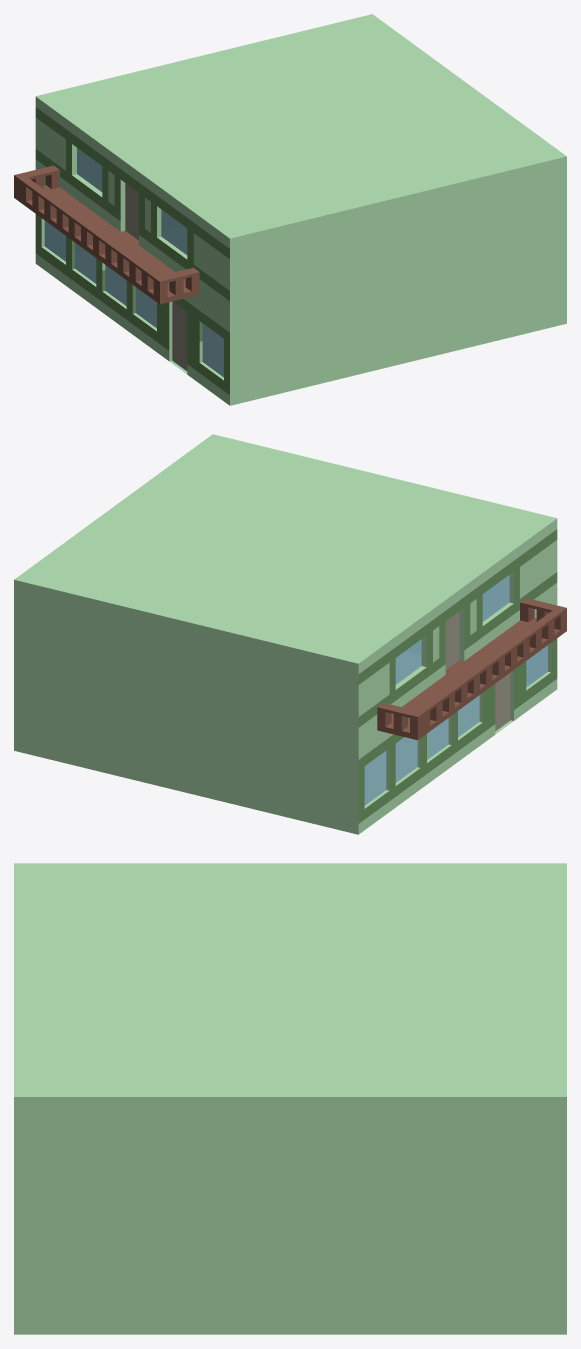
File: casa_2piso1.glb
The picture shows the model from 3 angles, top to bottom: view 1: azimuth 30°, elevation 25°; view 2: azimuth 150°, elevation 25°; view 3: azimuth 270°, elevation 25°; orthographic projection. The views are drawn at different scales.
Parts seen in each view (by area): view 1: Cubo; view 2: Cubo; view 3: Cubo.
Part boxes in pixels (left/top/right/bottom): Cubo: left=14, top=14, right=566, bottom=405; Cubo: left=14, top=434, right=566, bottom=834; Cubo: left=14, top=863, right=566, bottom=1334.
Size of what is drawn, in the model's own units: 19.83 by 8.41 by 17.73.
